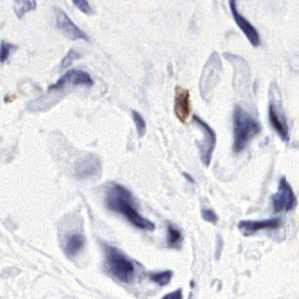Lymphocyte: (173, 84, 193, 125)
